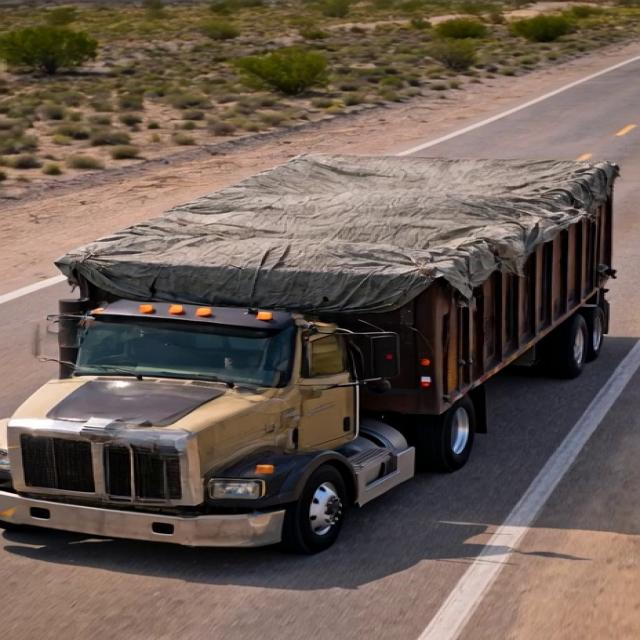trailer: (55, 149, 624, 301)
truck: (0, 132, 624, 556)
